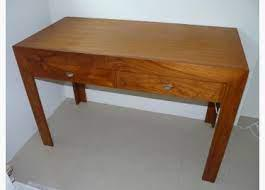desk: (8, 8, 250, 185)
